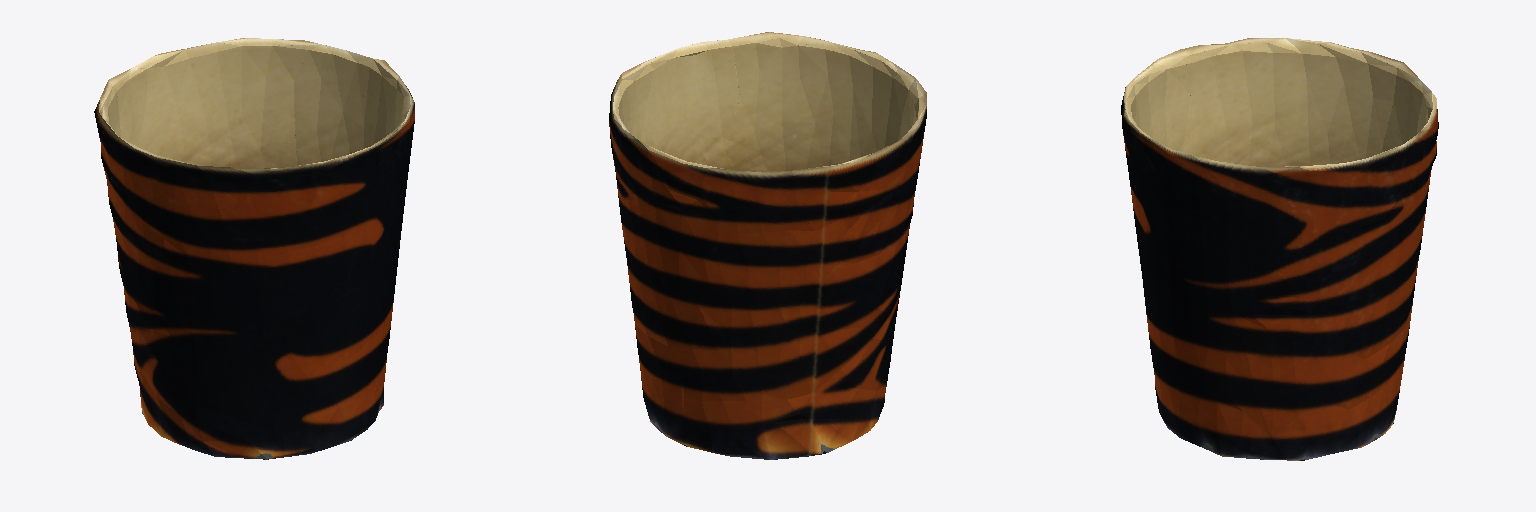
The picture shows the model from 3 angles: view 1: azimuth 30°, elevation 25°; view 2: azimuth 150°, elevation 25°; view 3: azimuth 270°, elevation 25°; orthographic projection.
Bounding box in the file's own units: 0.0806 × 0.0872 × 0.0802.
1 materials, 1 textured.